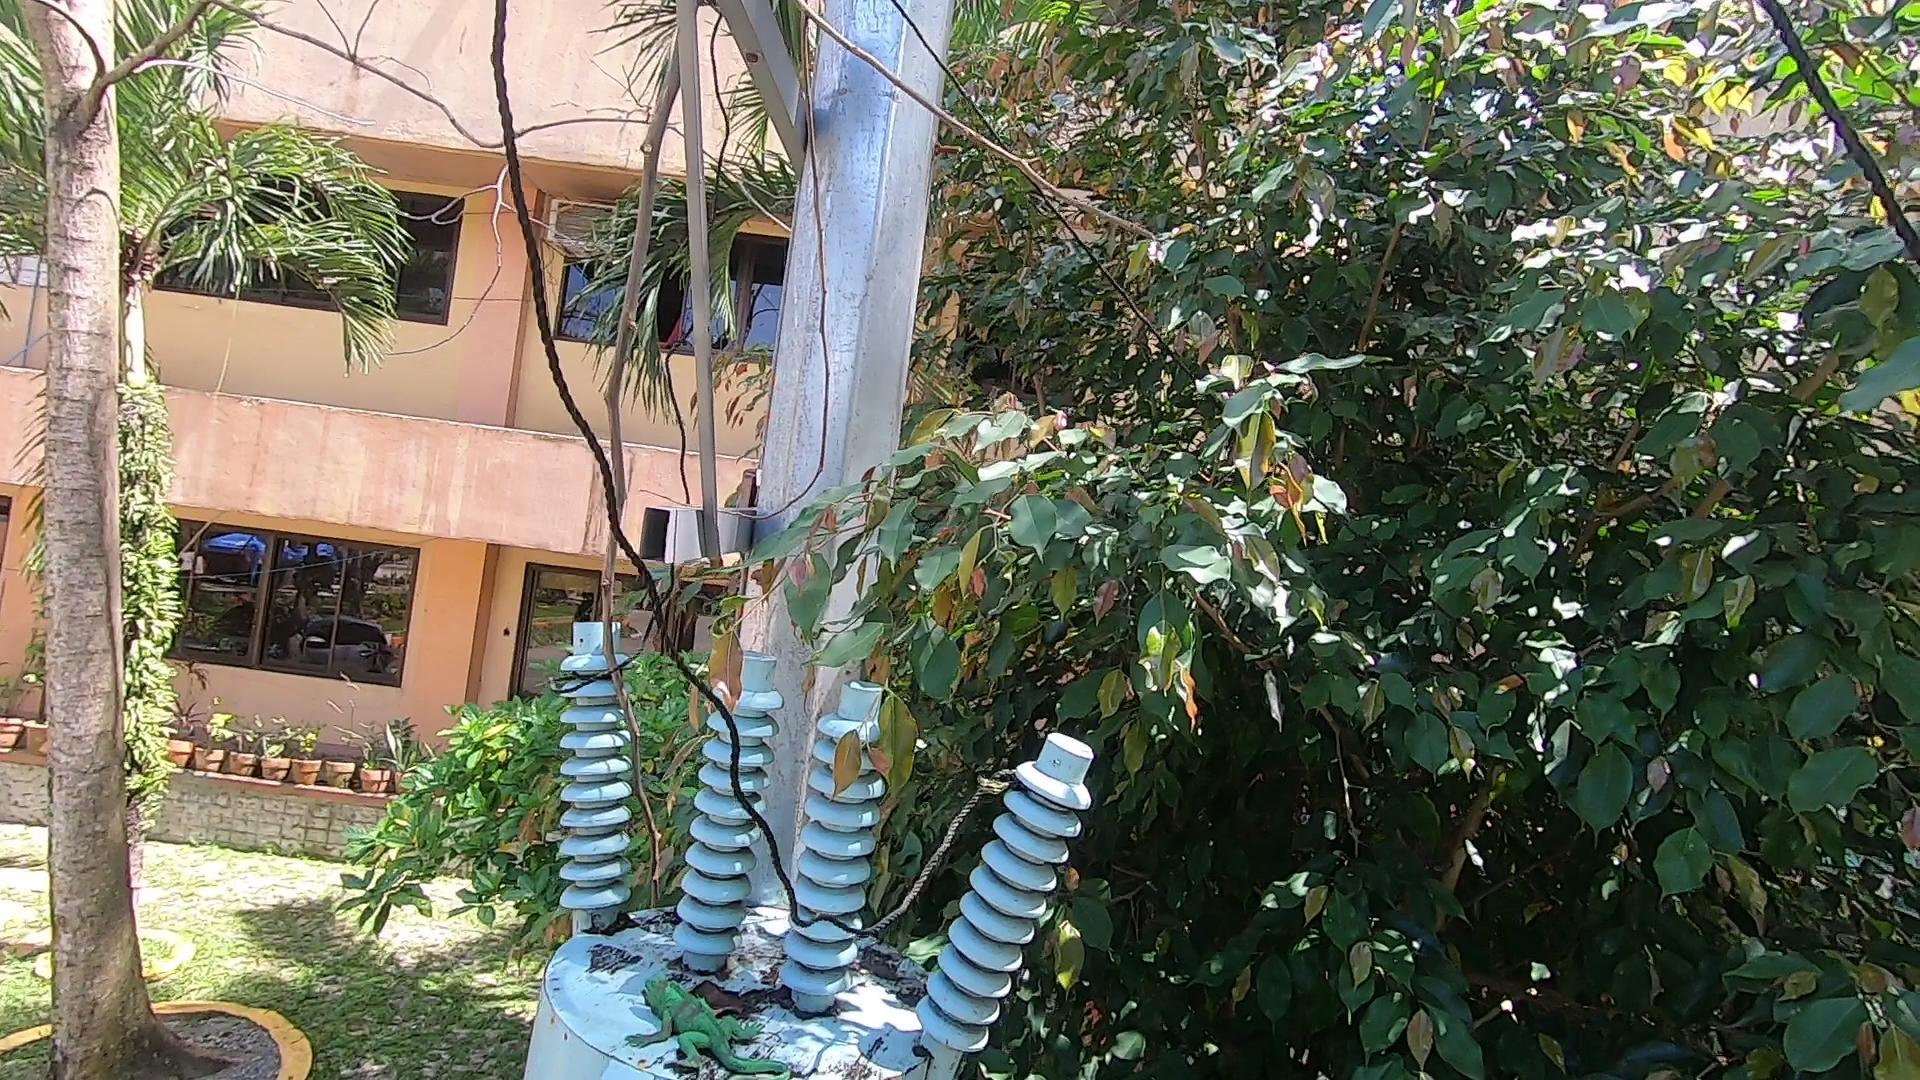branch with leaves: (669, 512, 1013, 800)
leaf: (688, 975, 804, 1025), (855, 938, 922, 1018), (599, 905, 647, 942)
tree branch: (574, 11, 1179, 891)
